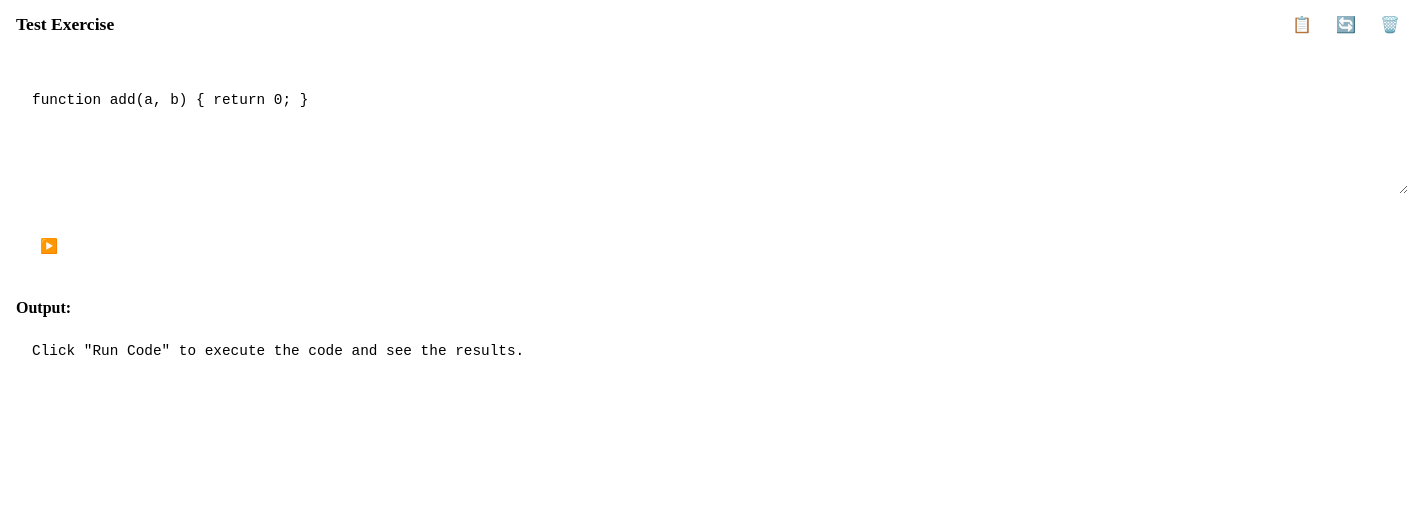
it: CodeRunner › shows FAILED for incorrect code
The width and height of the screenshot is (1424, 527).
Click the button "▶️ Run Code". click: click(85, 246)
box: [16, 226, 154, 267]
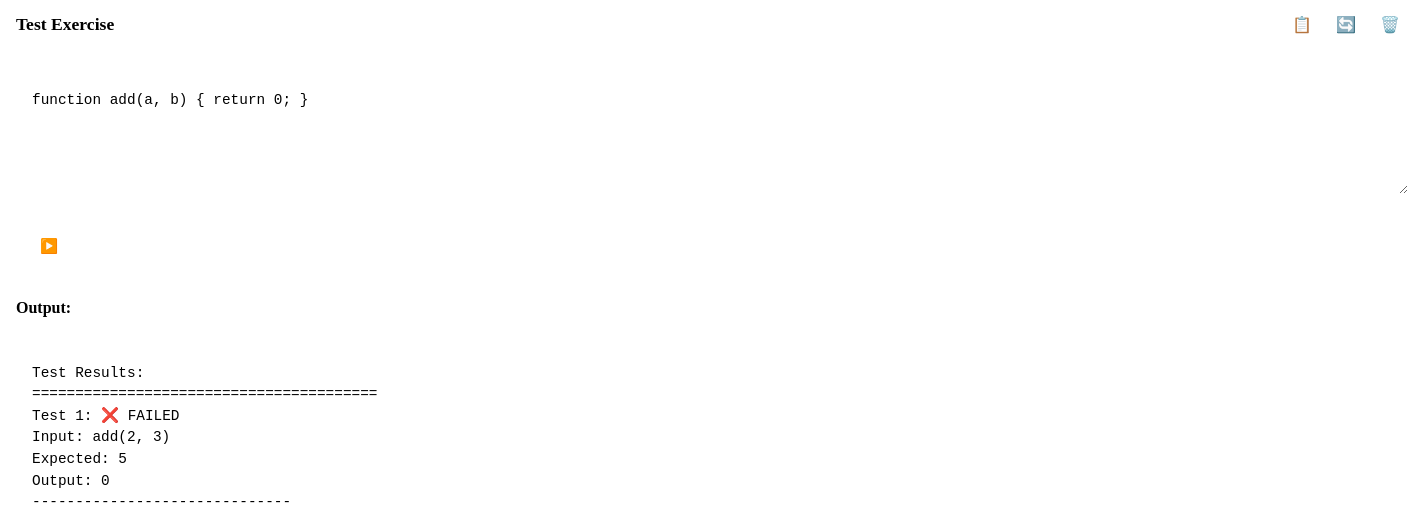
Now the text "FAILED" is shown, box [32, 365, 377, 510]
